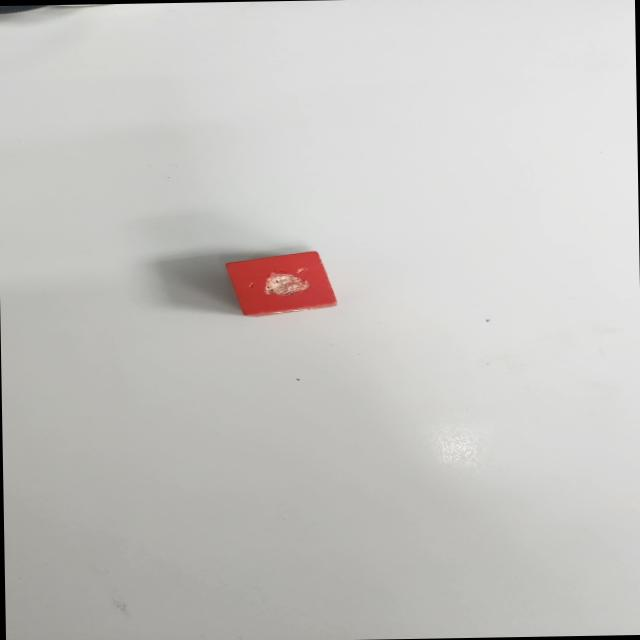broken: (224, 249, 338, 316)
